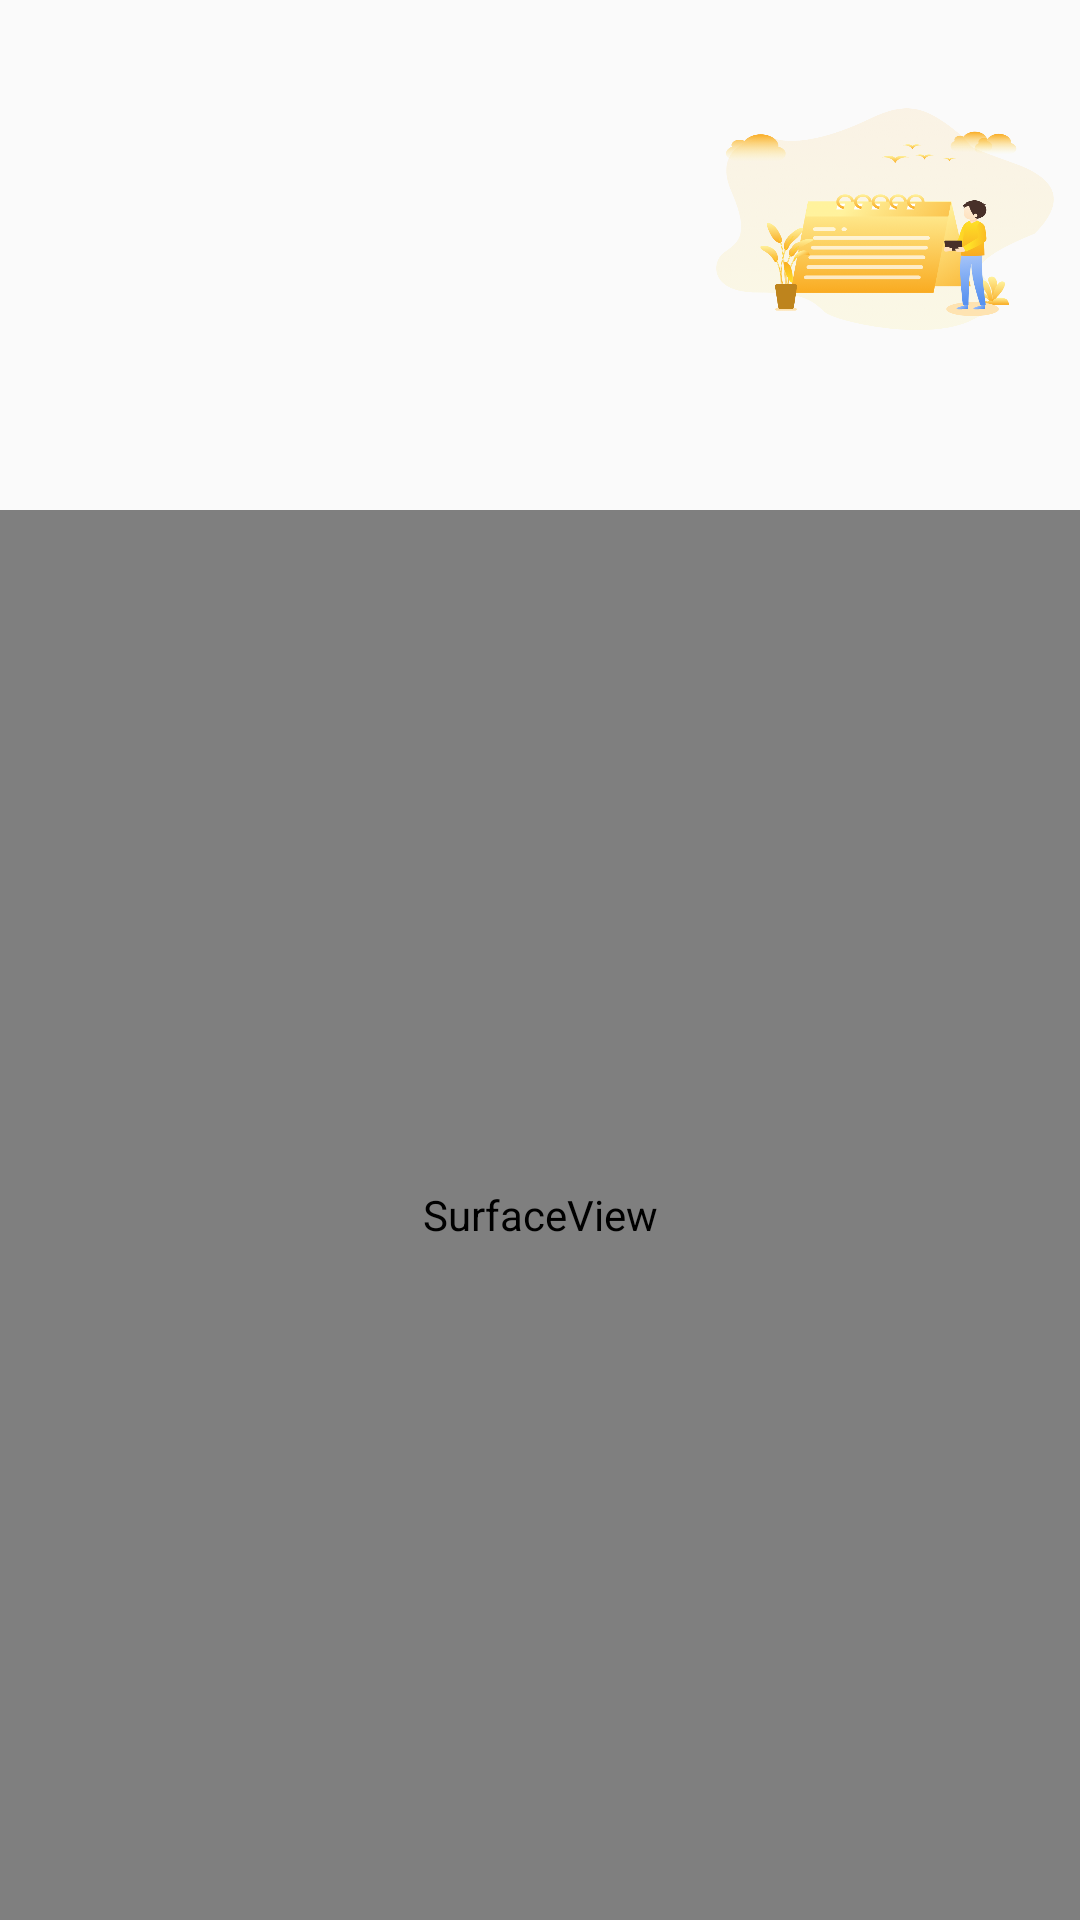

Named icons in this screenshot (1080 x 1920) and their centers, (x=x, y=y):
no schedule: (x=885, y=219)
